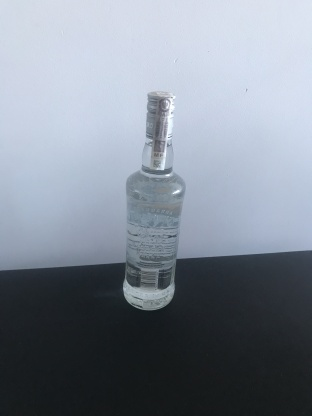nakretka: (143, 86, 177, 140)
